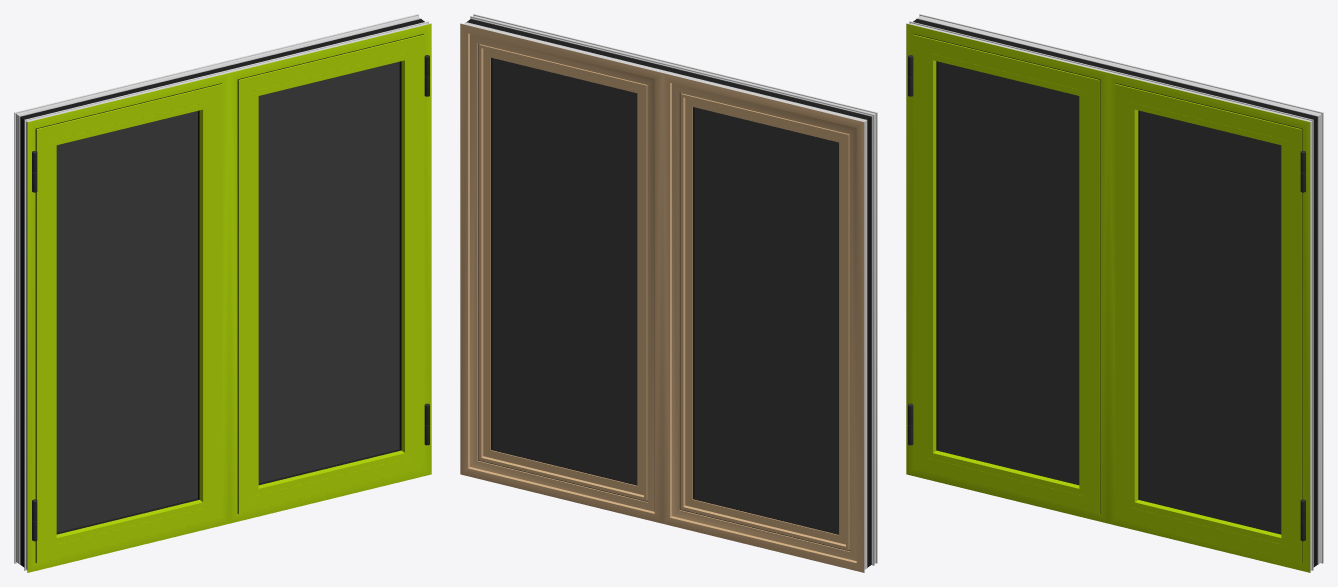
Rendered from 85_2_doors.fbx.
The picture shows the model from 3 angles, left to right: view 1: azimuth 30°, elevation 25°; view 2: azimuth 150°, elevation 25°; view 3: azimuth 330°, elevation 25°; orthographic projection.
Parts seen in each view (by area): view 1: SM_Door_Frame_85_R_002, SM_Door_Frame_85_L_002, SM_Window_Frame_85_001, SM_Door_Frame_85_R_003, SM_Door_Frame_85_L_003, SM_Window_Frame_85_002, SM_Door_Frame_85_R_011, SM_Door_Frame_85_L_012; view 2: SM_Door_Frame_85_R_002, SM_Door_Frame_85_L_002, SM_Window_Frame_85_001, SM_Door_Frame_85_L_003, SM_Door_Frame_85_R_003, SM_Window_Frame_85_002, SM_Window_Frame_85_007, SM_Door_Frame_85_R_011, SM_Door_Frame_85_L_012; view 3: SM_Door_Frame_85_L_002, SM_Door_Frame_85_R_002, SM_Window_Frame_85_001, SM_Door_Frame_85_L_003, SM_Door_Frame_85_R_003, SM_Window_Frame_85_002, SM_Door_Frame_85_L_012, SM_Door_Frame_85_R_011.
Boxes of the visible parts, bbox=[...] form: SM_Door_Frame_85_R_002: bbox=[258, 61, 399, 483]; SM_Door_Frame_85_L_002: bbox=[56, 111, 197, 532]; SM_Window_Frame_85_001: bbox=[14, 14, 431, 572]; SM_Door_Frame_85_R_003: bbox=[238, 34, 424, 513]; SM_Door_Frame_85_L_003: bbox=[36, 84, 222, 563]; SM_Window_Frame_85_002: bbox=[20, 19, 424, 567]; SM_Door_Frame_85_R_011: bbox=[237, 34, 423, 513]; SM_Door_Frame_85_L_012: bbox=[35, 83, 221, 562]; SM_Door_Frame_85_R_002: bbox=[493, 58, 637, 483]; SM_Door_Frame_85_L_002: bbox=[695, 107, 838, 532]; SM_Window_Frame_85_001: bbox=[460, 14, 877, 572]; SM_Door_Frame_85_L_003: bbox=[680, 92, 849, 550]; SM_Door_Frame_85_R_003: bbox=[478, 43, 647, 501]; SM_Window_Frame_85_002: bbox=[466, 19, 871, 567]; SM_Window_Frame_85_007: bbox=[478, 43, 849, 551]; SM_Door_Frame_85_R_011: bbox=[491, 57, 637, 485]; SM_Door_Frame_85_L_012: bbox=[693, 107, 838, 534]; SM_Door_Frame_85_L_002: bbox=[938, 61, 1079, 483]; SM_Door_Frame_85_R_002: bbox=[1140, 111, 1281, 532]; SM_Window_Frame_85_001: bbox=[906, 14, 1323, 572]; SM_Door_Frame_85_L_003: bbox=[913, 34, 1099, 513]; SM_Door_Frame_85_R_003: bbox=[1115, 84, 1301, 563]; SM_Window_Frame_85_002: bbox=[913, 19, 1317, 567]; SM_Door_Frame_85_L_012: bbox=[914, 34, 1100, 513]; SM_Door_Frame_85_R_011: bbox=[1116, 83, 1302, 562].
Bounding box in the file's own units: 150 × 160 × 10.32.
